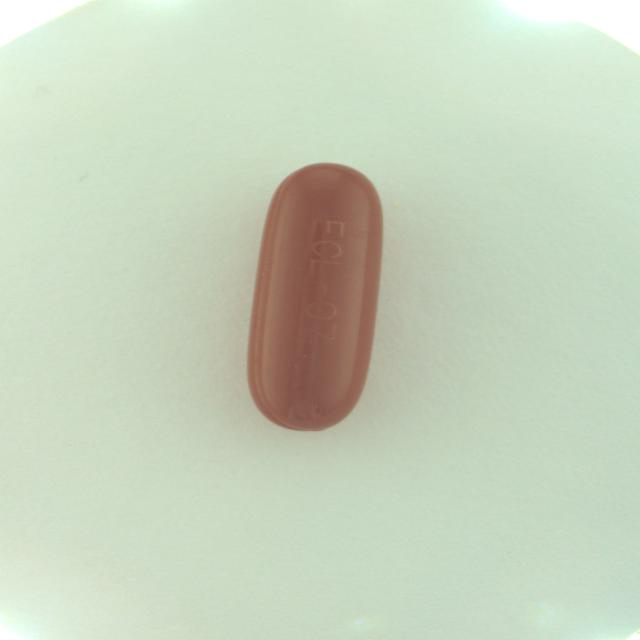Oval: (245, 160, 385, 437)
